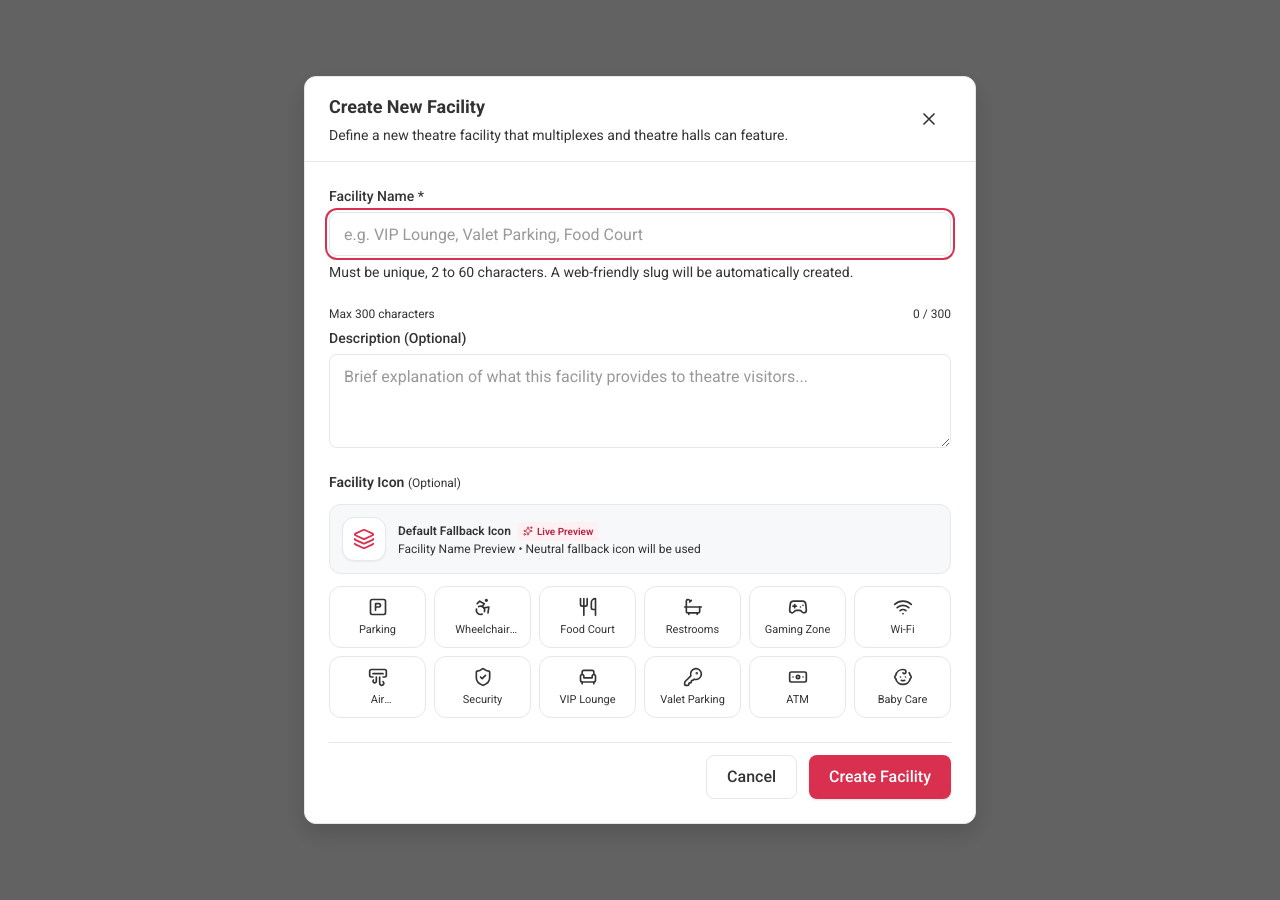
Scenario: FacilityModal (React Hook Form + Zod + FormErrorBanner) › renders field error when backend rejects duplicate facility name (409)
In the field labelled "Facility Name *": coordinates (640, 234) [329,212,951,256], type "VIP Lounge"
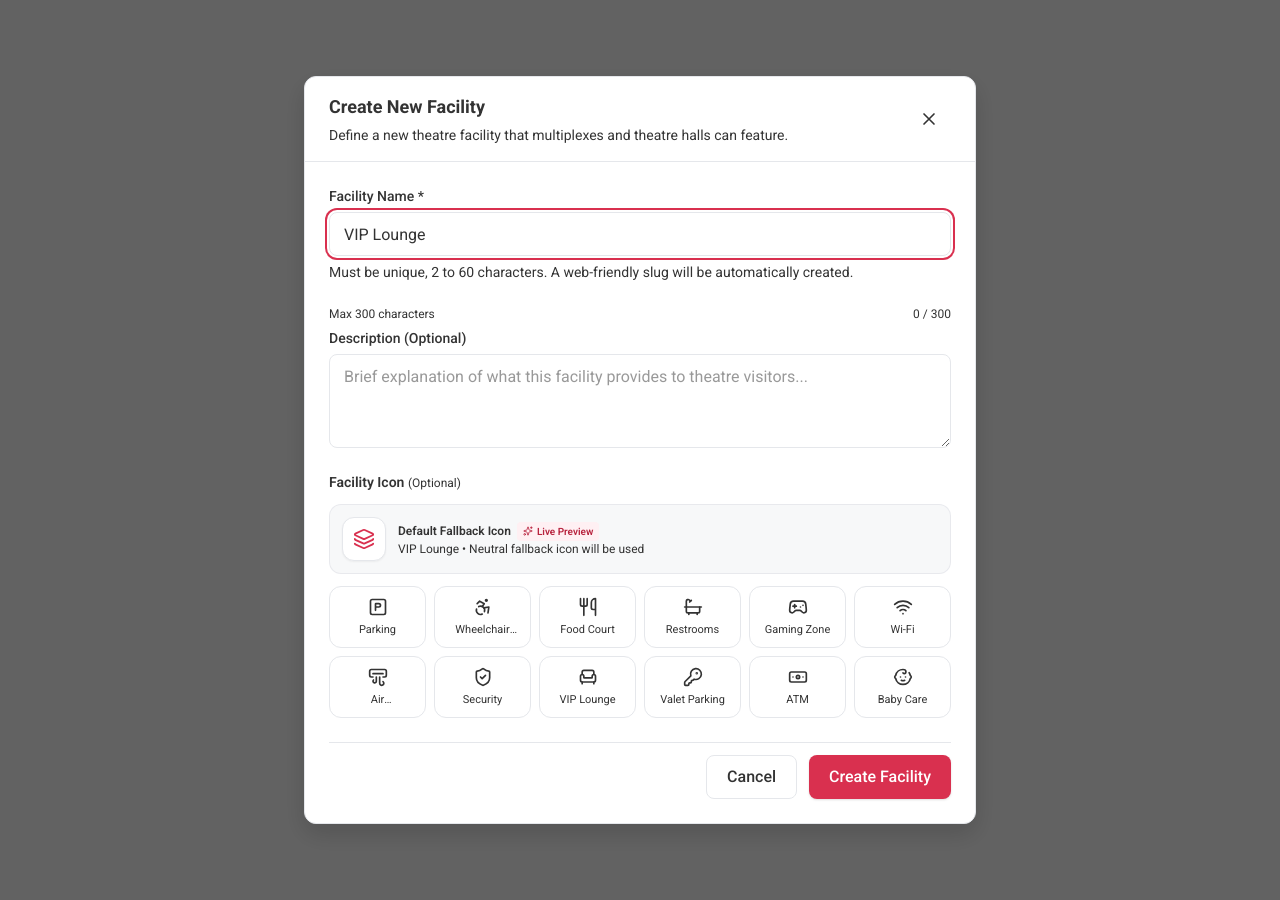
Click the button "Create Facility": coordinates (880, 777) [809,755,951,799]
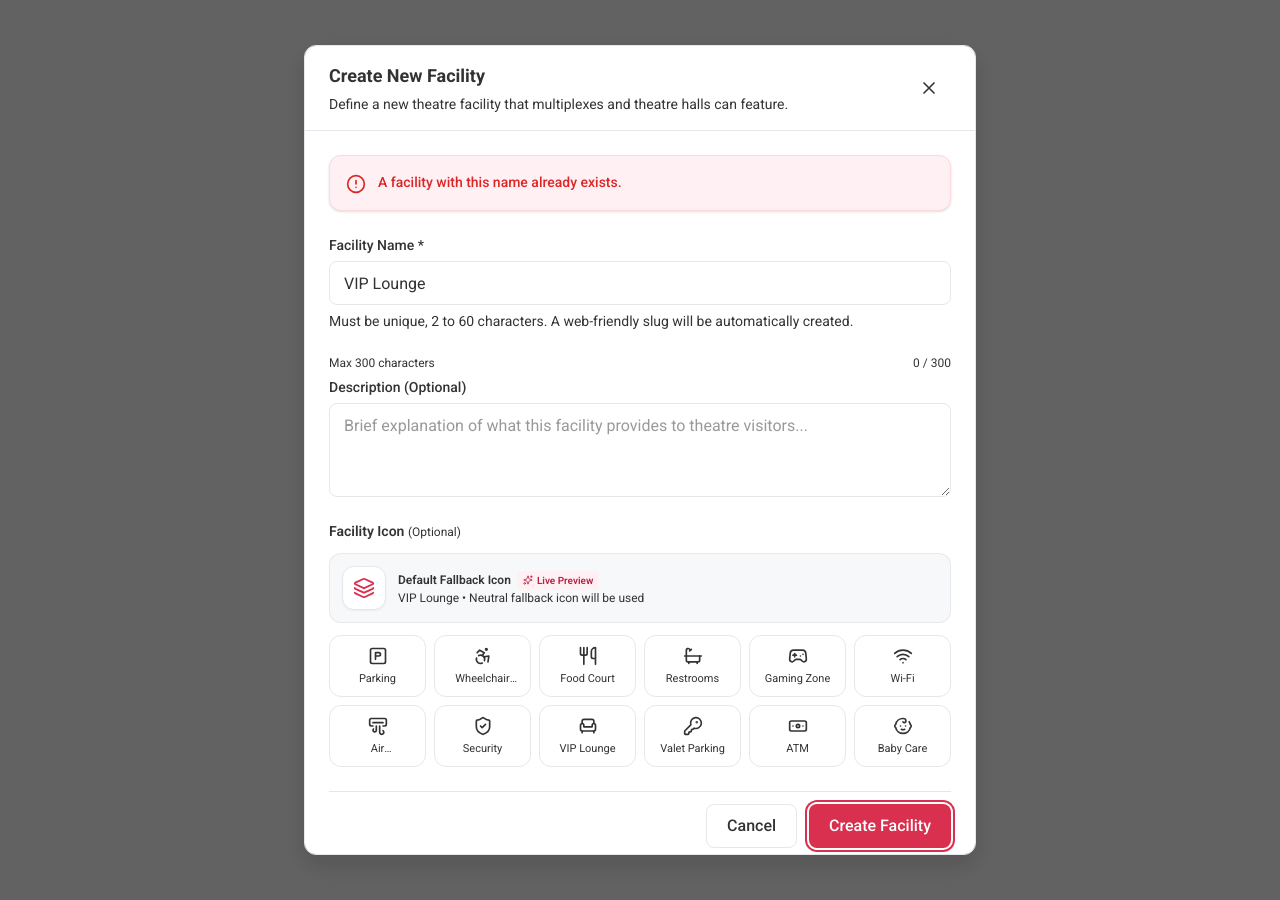
Check: the text "A facility with this name already exists." is shown, box [378,174,622,190]
